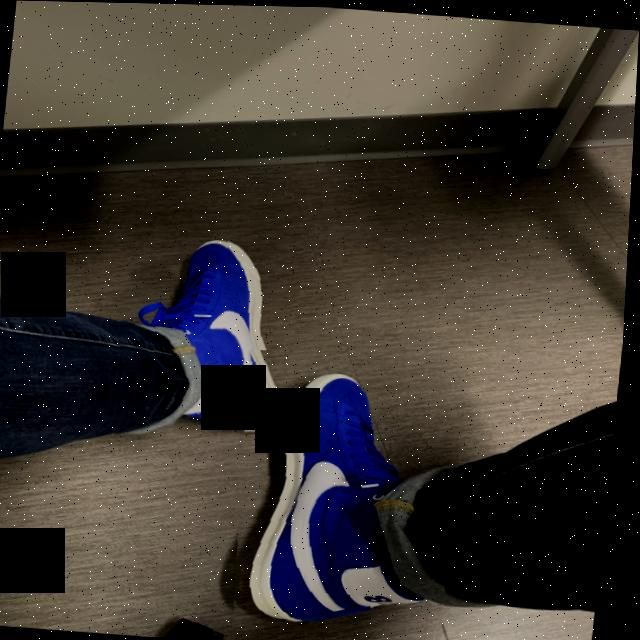shoe: (226, 348, 474, 640), (109, 226, 307, 455)
